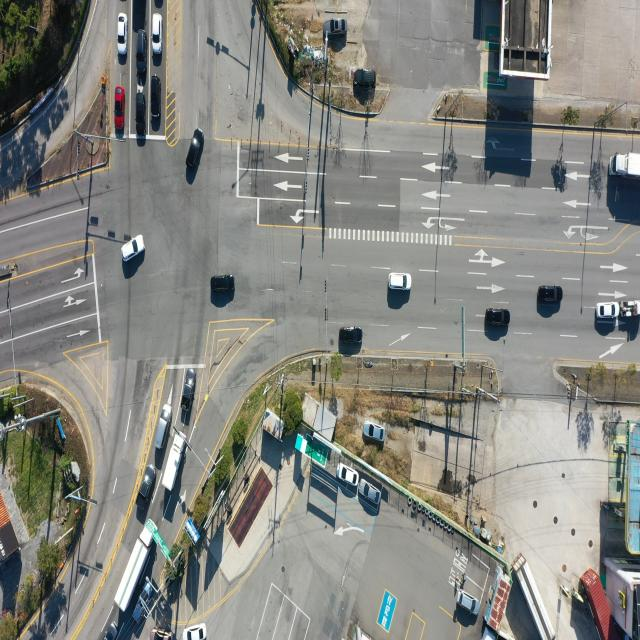car: (180, 368, 196, 426), (136, 465, 156, 507), (154, 405, 171, 449), (133, 583, 153, 620), (188, 131, 205, 173), (123, 236, 145, 264), (459, 588, 482, 614), (358, 481, 381, 506), (484, 308, 510, 328), (114, 88, 125, 134), (150, 74, 160, 123), (338, 463, 360, 485), (136, 89, 146, 137), (537, 285, 562, 304), (362, 421, 384, 442), (211, 275, 235, 294), (340, 328, 364, 346), (136, 32, 146, 74), (388, 273, 411, 291), (116, 14, 126, 55), (151, 14, 161, 54), (355, 68, 376, 86), (324, 18, 345, 36), (597, 303, 619, 320), (186, 624, 208, 640), (103, 623, 118, 640), (152, 629, 174, 640), (153, 0, 162, 9)
medium_truck: (116, 521, 158, 613), (519, 554, 558, 638), (161, 431, 185, 494), (613, 153, 640, 180)
small_truck: (185, 516, 200, 544), (621, 298, 640, 320)
